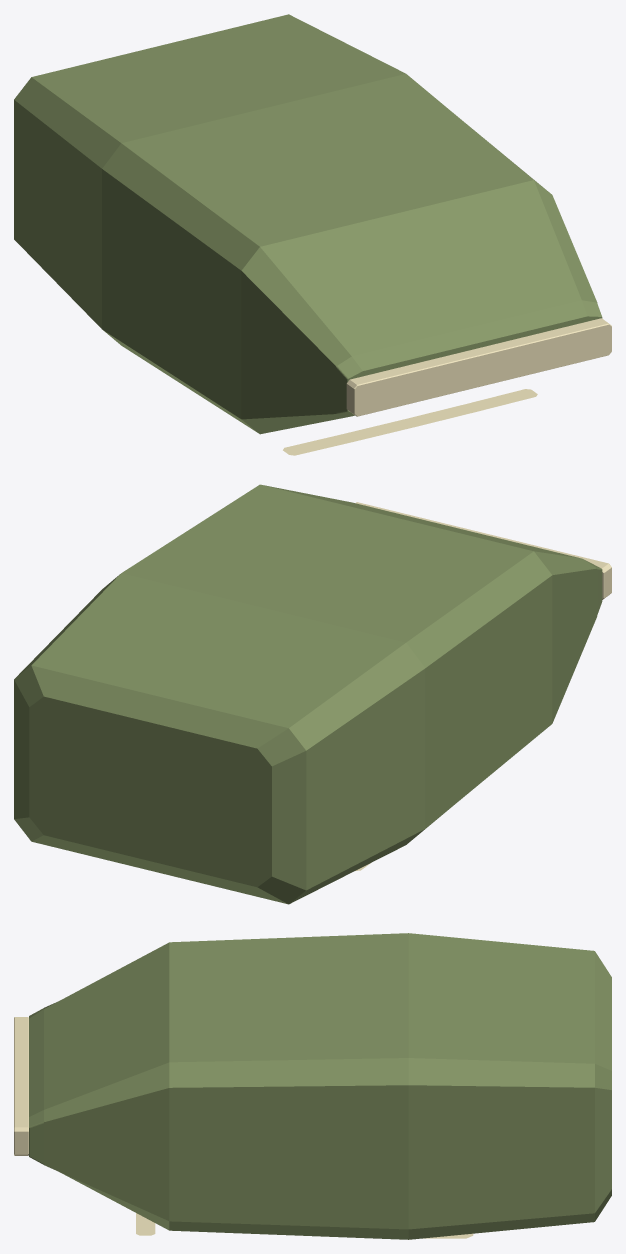
The model's file is cat_litter.glb.
3 renders of one model, top to bottom at view 1: azimuth 30°, elevation 25°; view 2: azimuth 150°, elevation 25°; view 3: azimuth 270°, elevation 25°, orthographic. The views are drawn at different scales.
Visible parts, largest first — view 1: cat_litter; view 2: cat_litter; view 3: cat_litter.
Part boxes in pixels (bbox=[...]): cat_litter: bbox=[14, 14, 611, 455]; cat_litter: bbox=[14, 484, 611, 904]; cat_litter: bbox=[14, 933, 611, 1239].
Bounding box in the file's own units: 0.157 × 0.1023 × 0.28.
